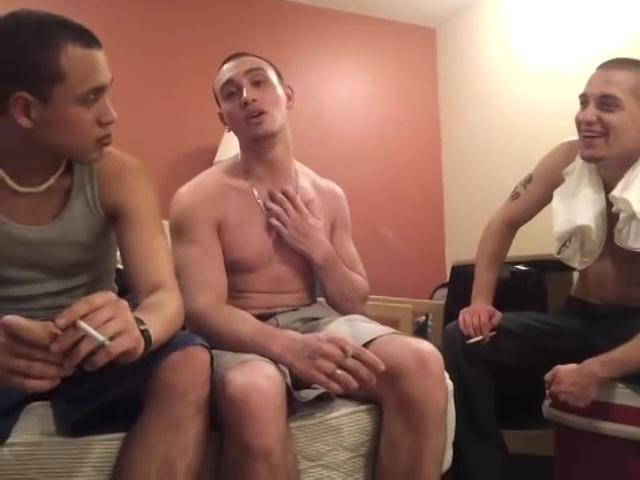cigarette: (72, 317, 113, 350), (466, 331, 498, 344)
